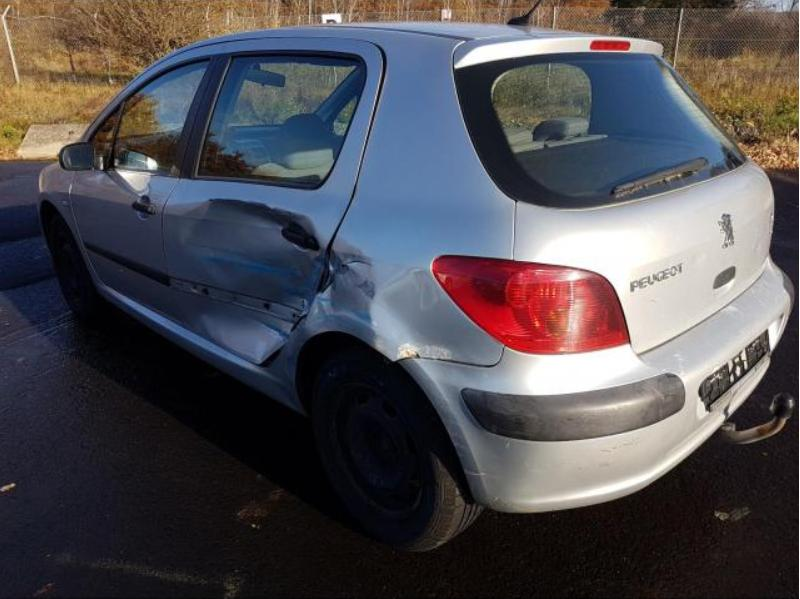Back-bumper: (399, 265, 796, 514), (453, 34, 664, 69)
Back-door: (163, 37, 383, 366)
Back-wheel: (302, 342, 484, 551)
Back-window: (195, 53, 364, 188)
Back-windshield: (456, 54, 746, 206)
Fender: (37, 165, 99, 292)
Front-door: (70, 41, 228, 318)
Front-wheel: (43, 207, 97, 332)
Front-window: (92, 61, 209, 175)
Mirror: (63, 144, 97, 173)
Quarter-panel: (269, 194, 515, 399)
Rocker-panel: (98, 285, 300, 418)
Roof: (207, 21, 614, 43)
Tail-light: (427, 257, 629, 359)
Trunk: (514, 166, 776, 351), (453, 34, 664, 68)
